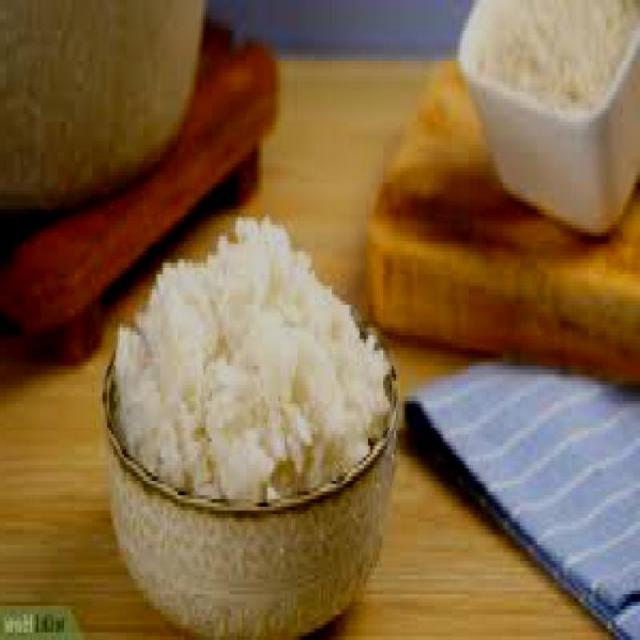rice: (113, 213, 388, 506)
